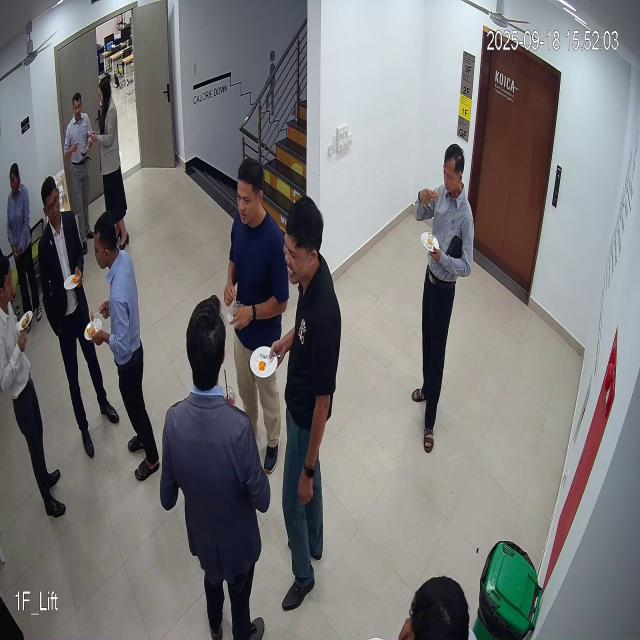face: (285, 190, 324, 291), (232, 152, 265, 226), (441, 136, 466, 201)
